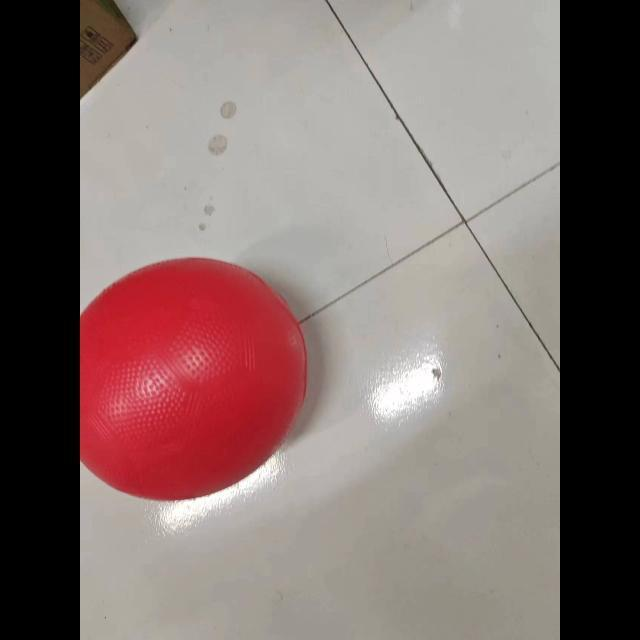R: (82, 247, 330, 509)
